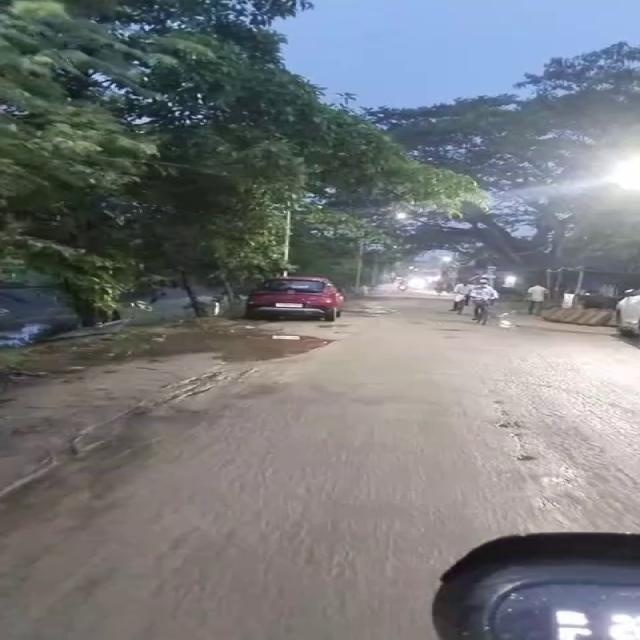pothole: (246, 329, 344, 364), (513, 448, 547, 468), (433, 324, 478, 334), (492, 419, 526, 427)
